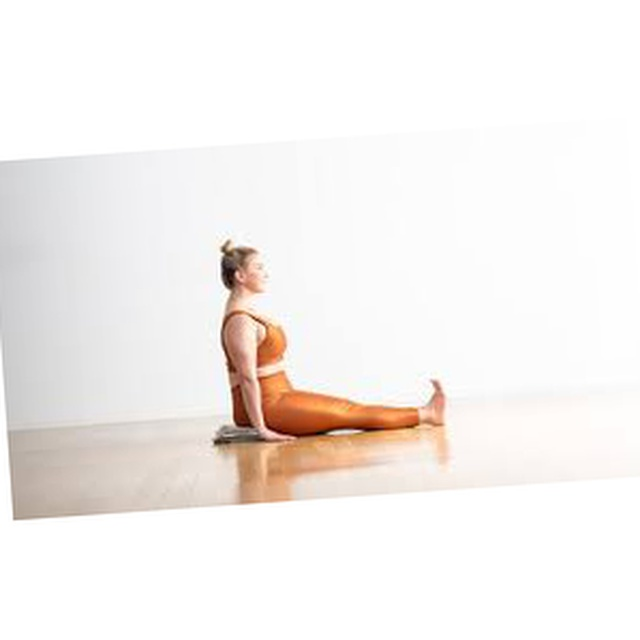Staff_Pose: (220, 240, 445, 441)
